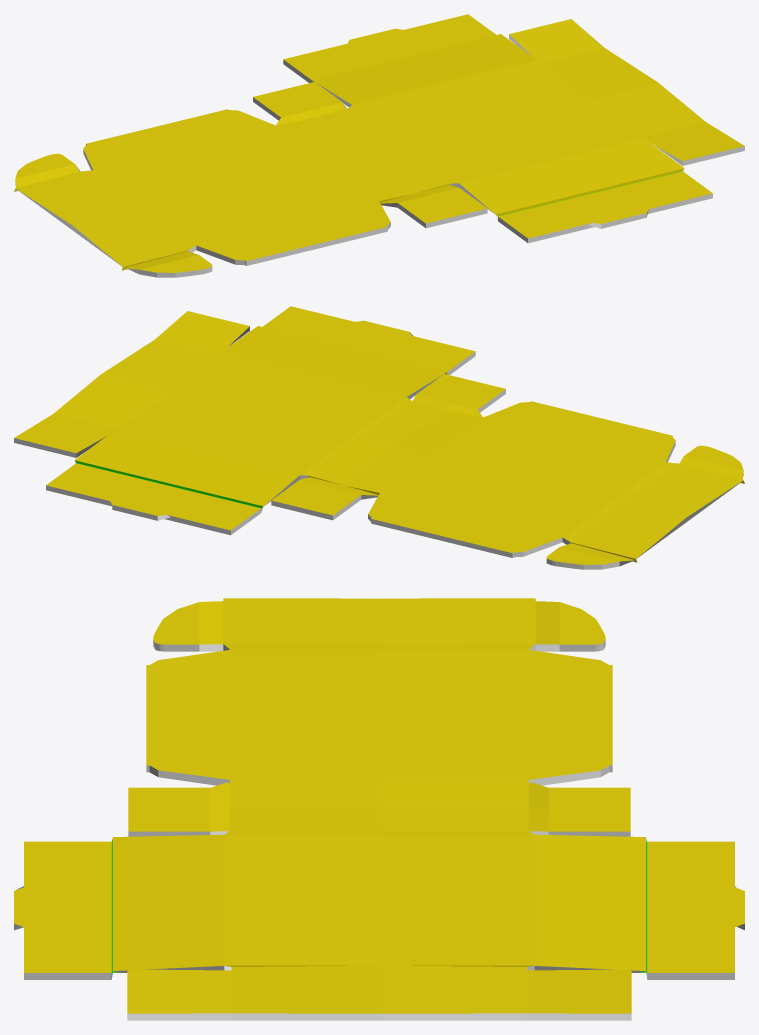
Rendered from caja.gltf.
3 views of the same model, one above another, from view 1: azimuth 30°, elevation 25°; view 2: azimuth 150°, elevation 25°; view 3: azimuth 270°, elevation 25° (orthographic). The views are drawn at different scales.
Parts seen in each view (by area): view 1: Cube; view 2: Cube; view 3: Cube.
Boxes of the visible parts, bbox=[...] form: Cube: bbox=[14, 14, 744, 277]; Cube: bbox=[14, 306, 744, 569]; Cube: bbox=[14, 598, 744, 1020].
Size of the model in its own units: 3.89 by 0.061 by 2.87.
